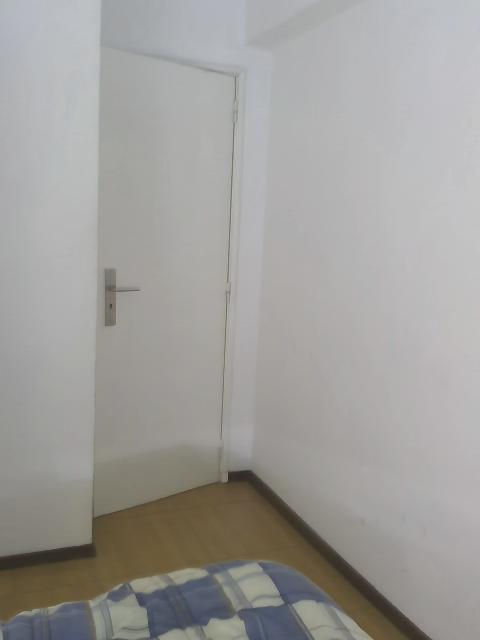closed_door: (92, 45, 247, 520)
